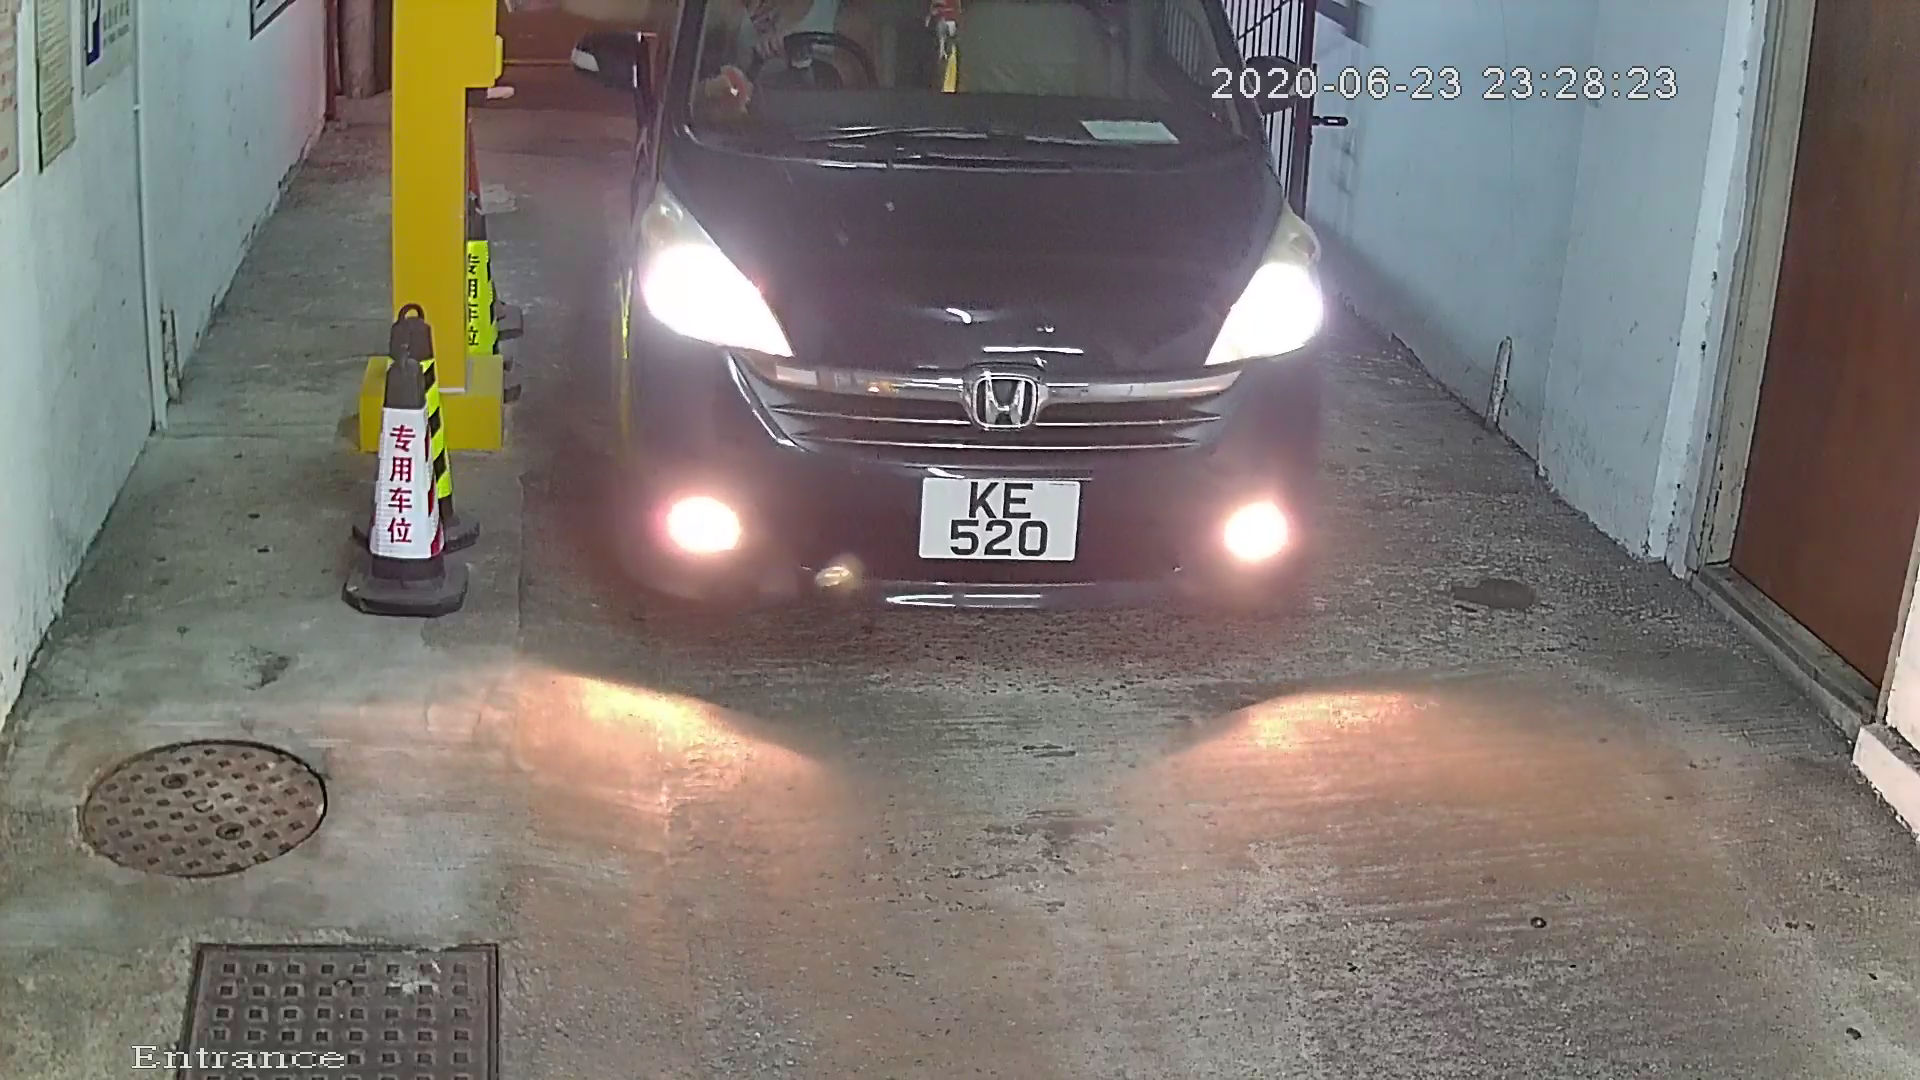privatecar: (550, 1, 1346, 662)
